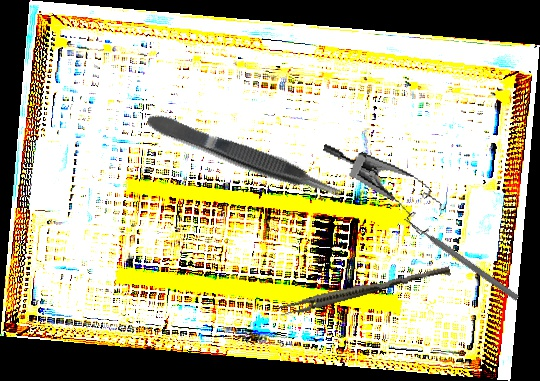Pusher: (401, 215, 521, 302)
Speculum: (308, 141, 455, 241)
Tissue Forceps: (143, 105, 349, 209), (277, 259, 452, 321)
